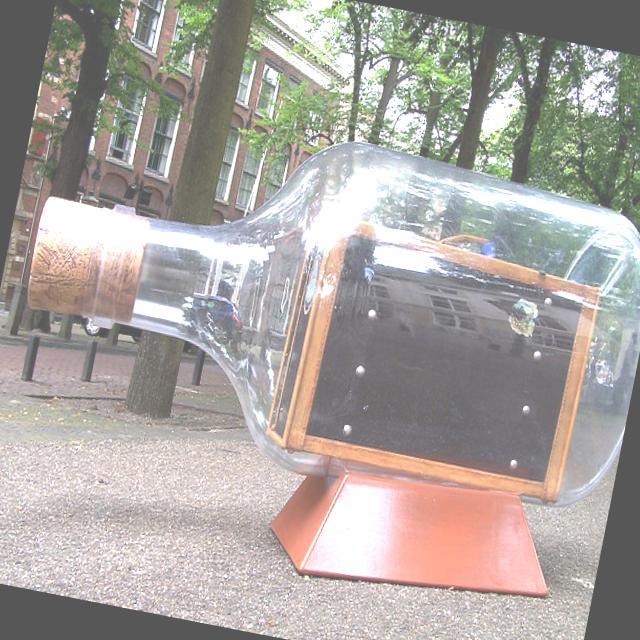Vehicle: (186, 292, 246, 346)
